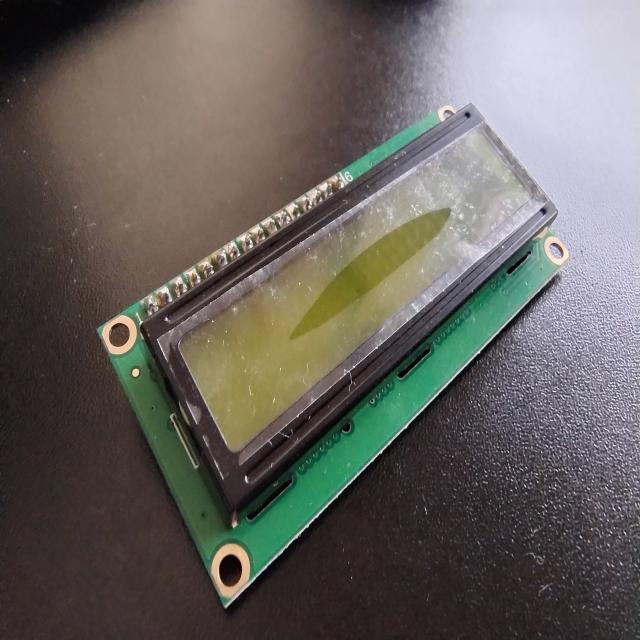lcd: (95, 102, 579, 619)
